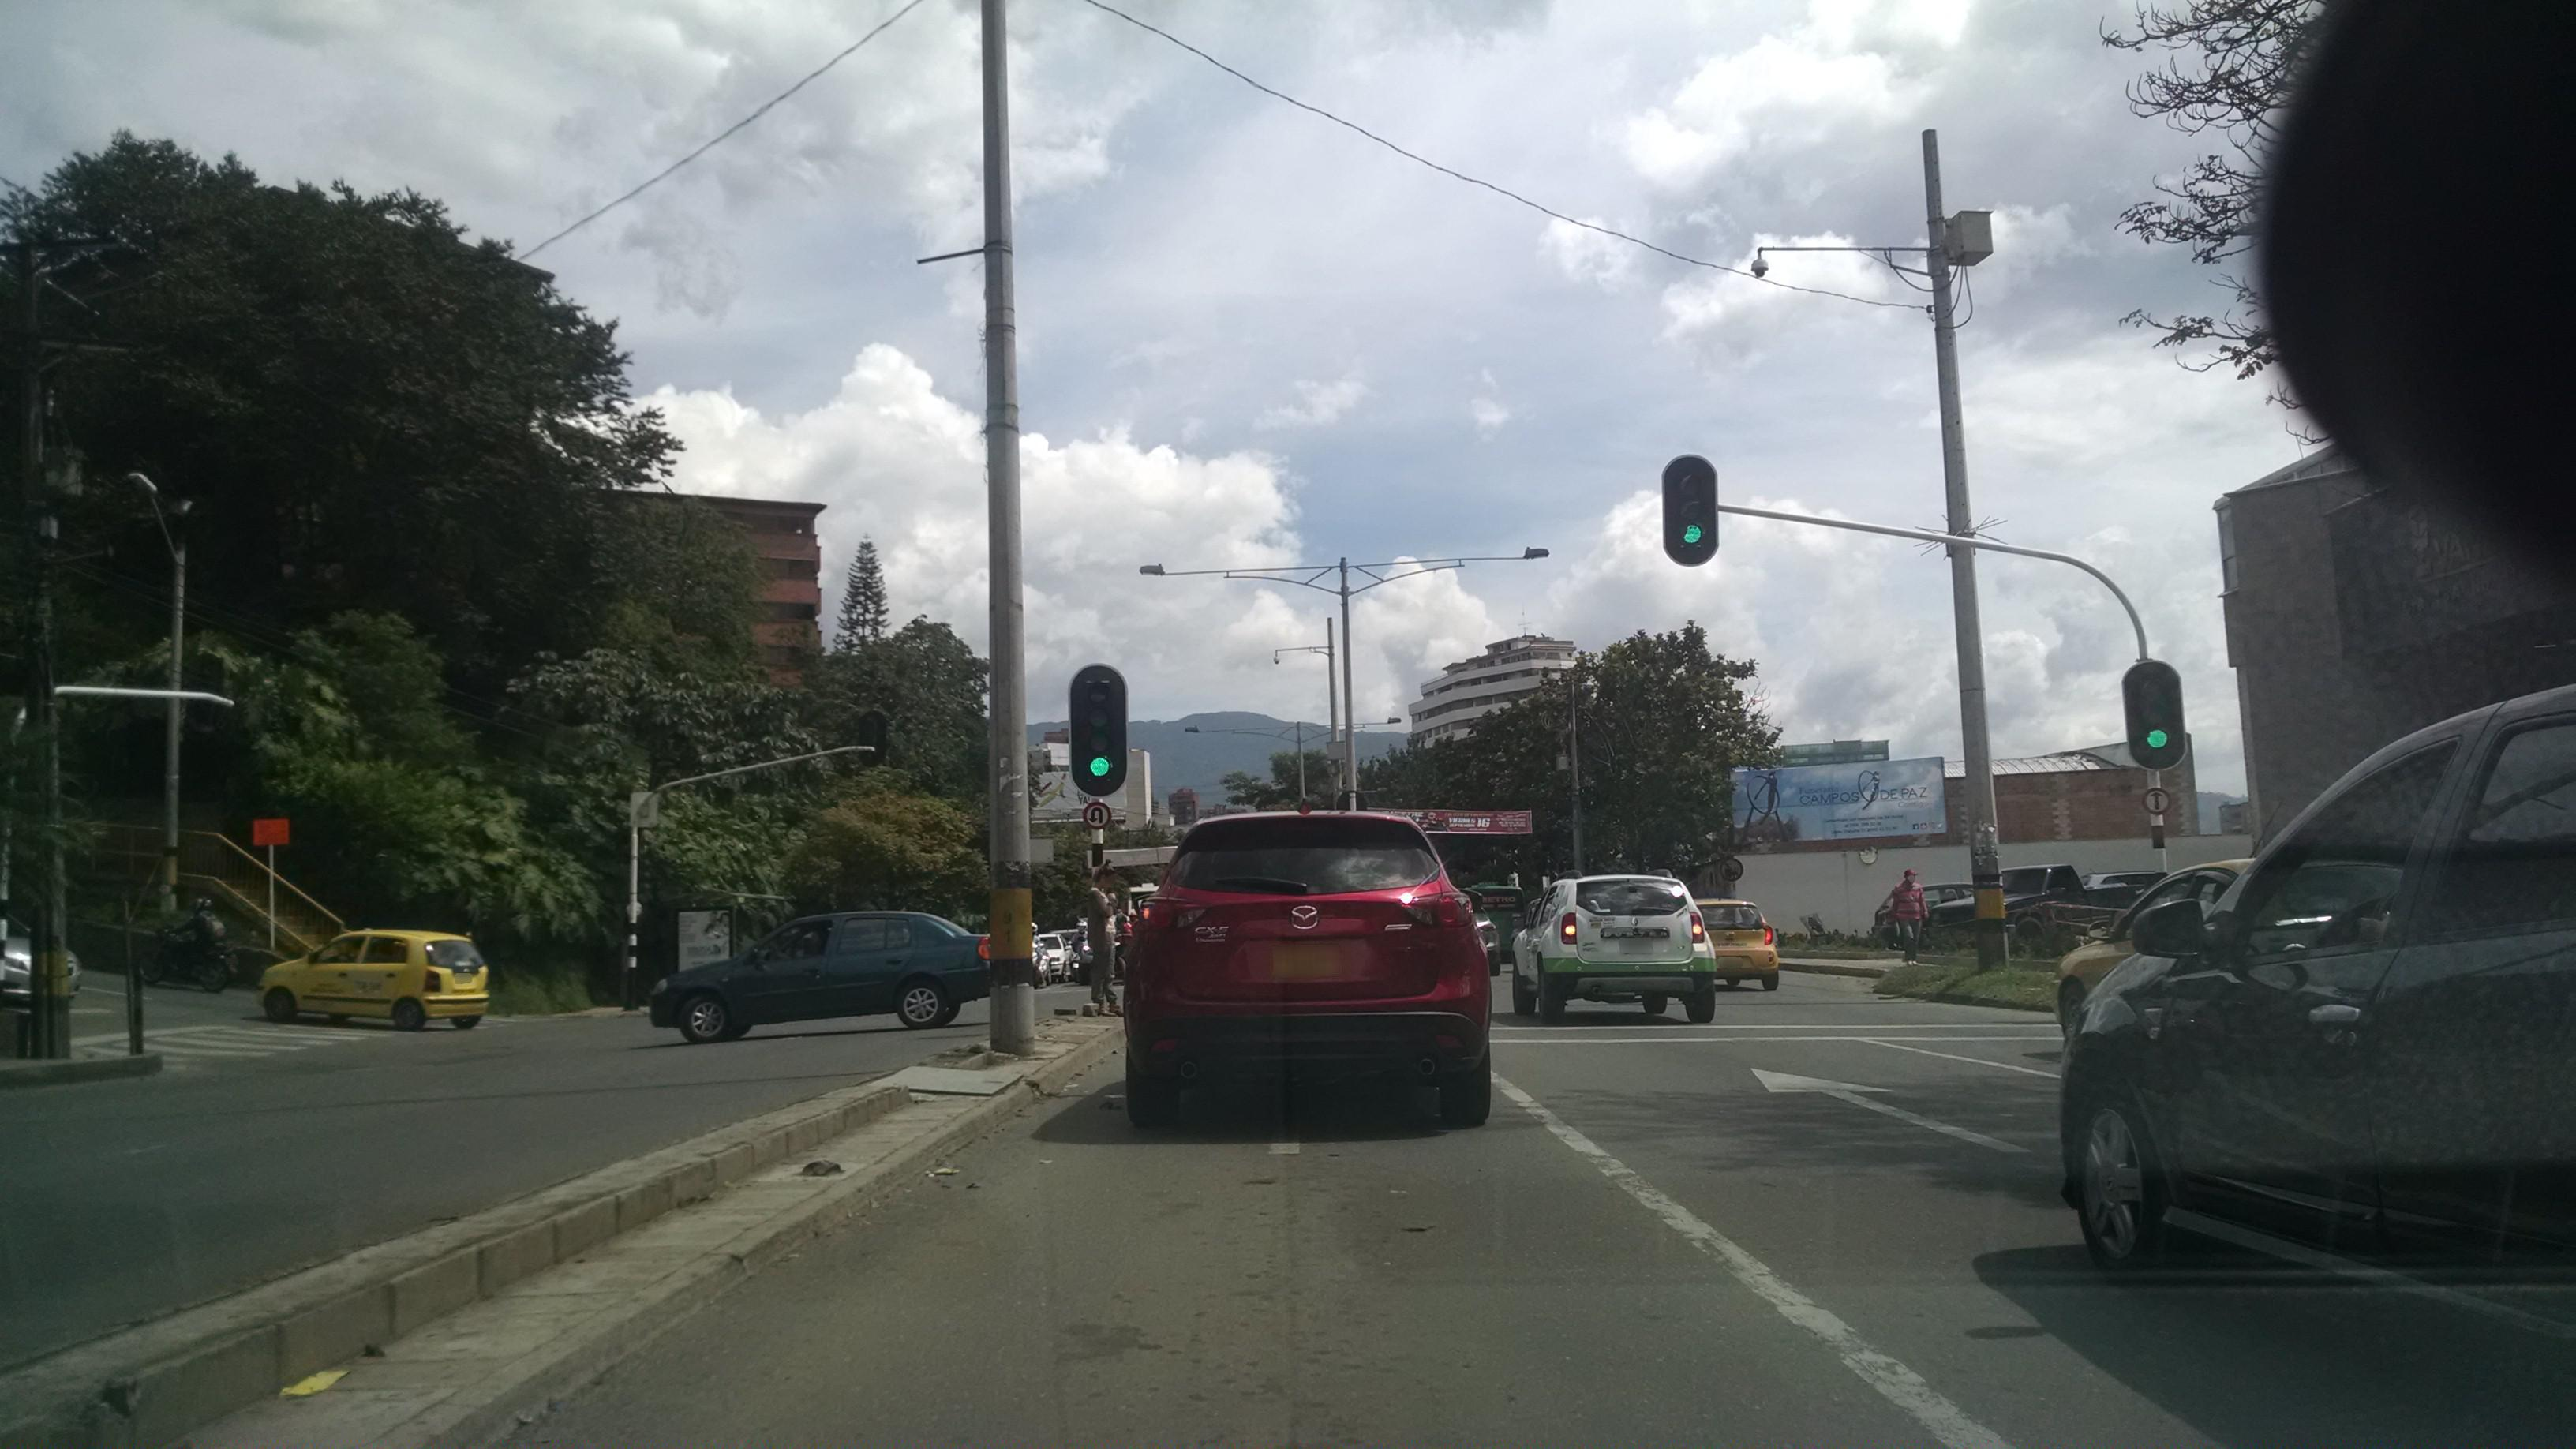vinyl banner: (1361, 798, 1562, 844)
